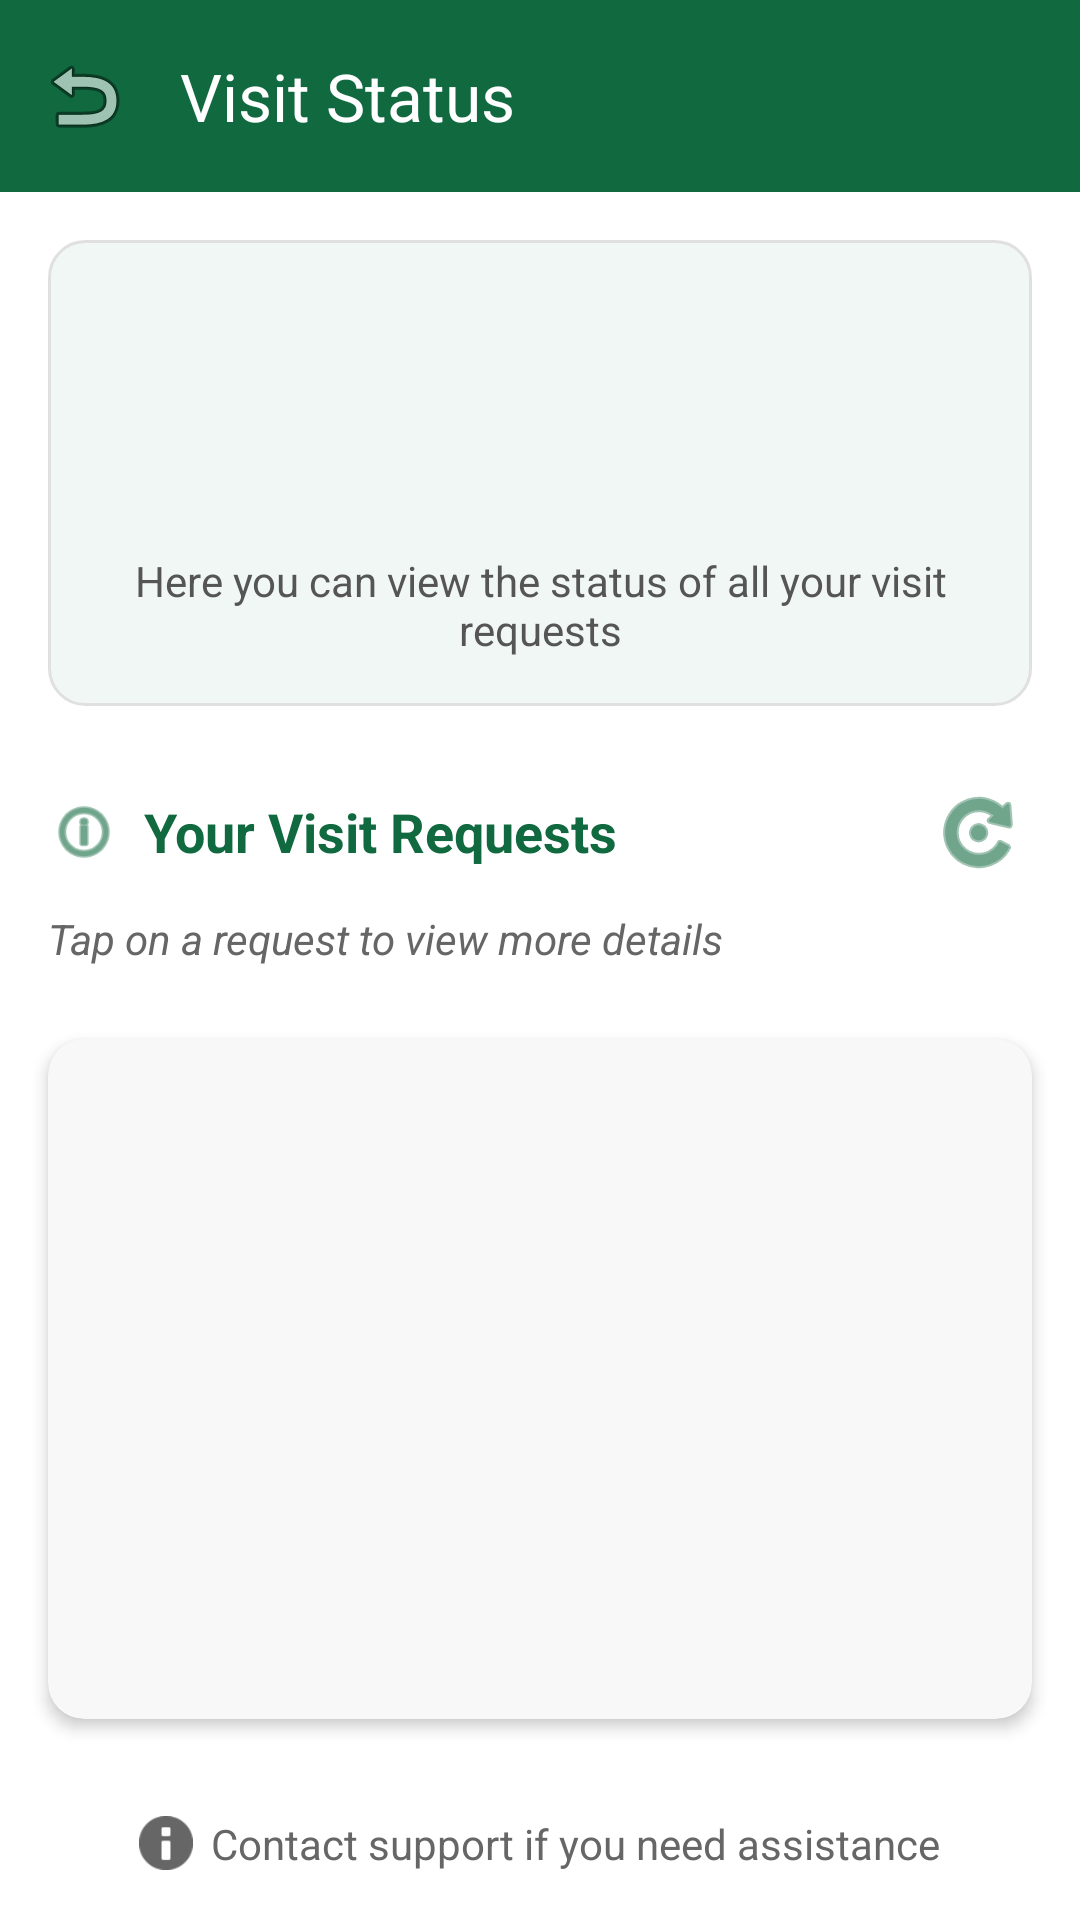

Icon click points for this 1080 × 1920 phone screenshot, format point (x, y):
info: point (166, 1843)
info details: point (84, 832)
Refresh the list: point (978, 832)
